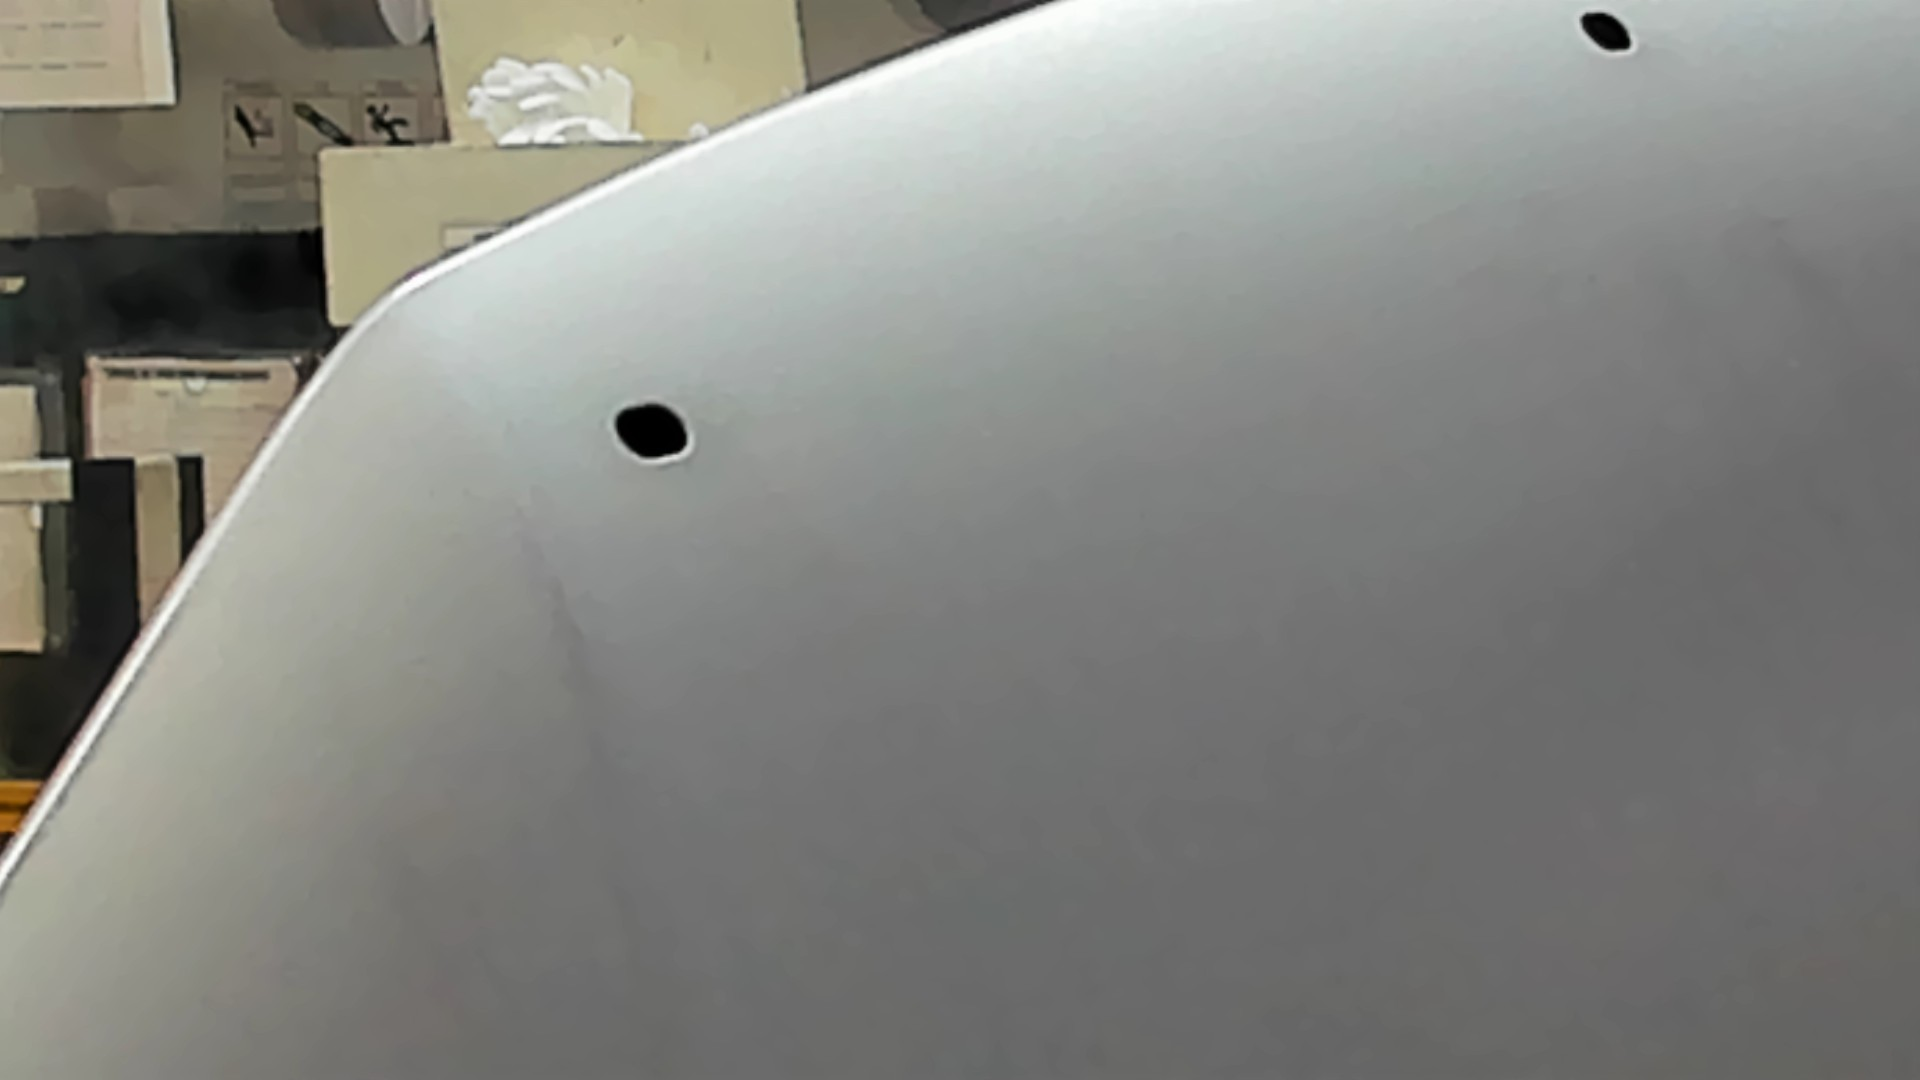Agujero: (603, 392, 699, 467), (1572, 7, 1643, 57)
